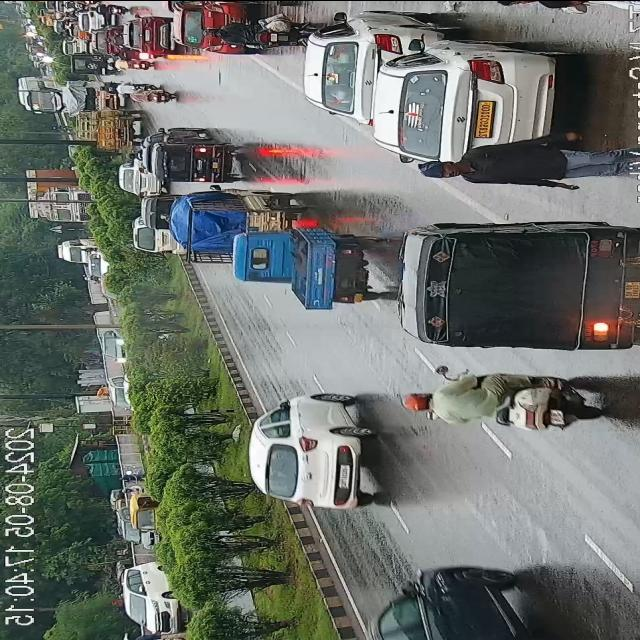2-wheelers: (407, 367, 601, 432), (206, 16, 287, 50), (48, 0, 96, 16), (124, 90, 176, 104), (109, 56, 152, 71), (50, 15, 76, 34), (109, 83, 162, 92), (92, 5, 130, 16), (120, 484, 146, 494), (102, 33, 122, 45)
auto: (387, 218, 640, 353), (228, 231, 382, 309), (153, 140, 241, 183), (126, 498, 162, 528), (143, 193, 177, 223)
bus: (15, 76, 64, 110)
car: (380, 34, 558, 172), (246, 388, 380, 512), (302, 16, 422, 120), (172, 0, 247, 50), (116, 562, 172, 628), (116, 154, 162, 200), (124, 15, 170, 56), (132, 224, 186, 258), (147, 126, 206, 141), (70, 52, 110, 74), (92, 26, 120, 52), (62, 240, 94, 260), (106, 378, 130, 404), (76, 11, 105, 31), (104, 332, 126, 358), (63, 39, 89, 55), (164, 0, 198, 11)
pedestrian: (419, 142, 625, 186), (472, 0, 622, 18)
truck: (349, 549, 533, 640), (169, 184, 291, 230), (24, 169, 90, 221), (72, 110, 142, 148), (64, 80, 115, 112)
